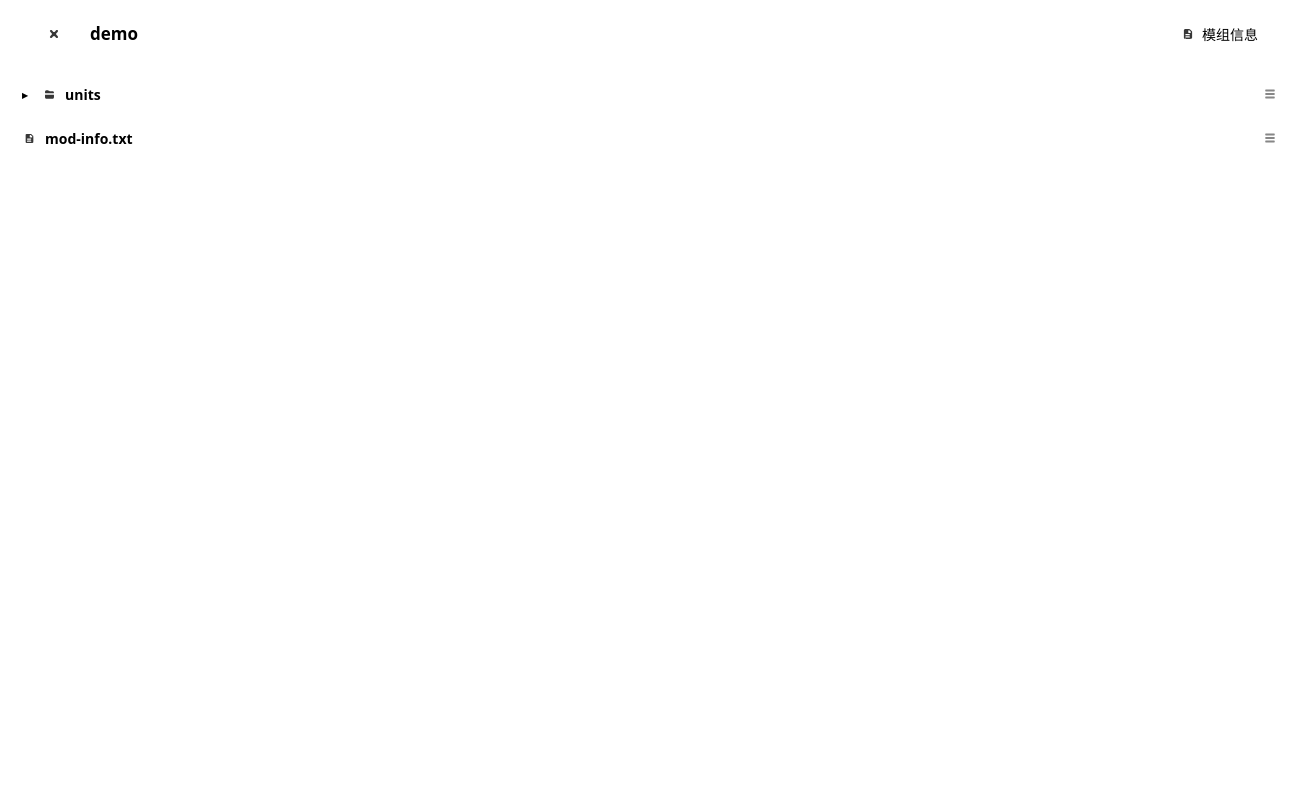
Test case: 编辑器页：保存失败与冲突 › 保存失败时留在编辑器并给出错误，内容不丢
Click the text "units".
click(83, 94)  # box [65,84,101,104]
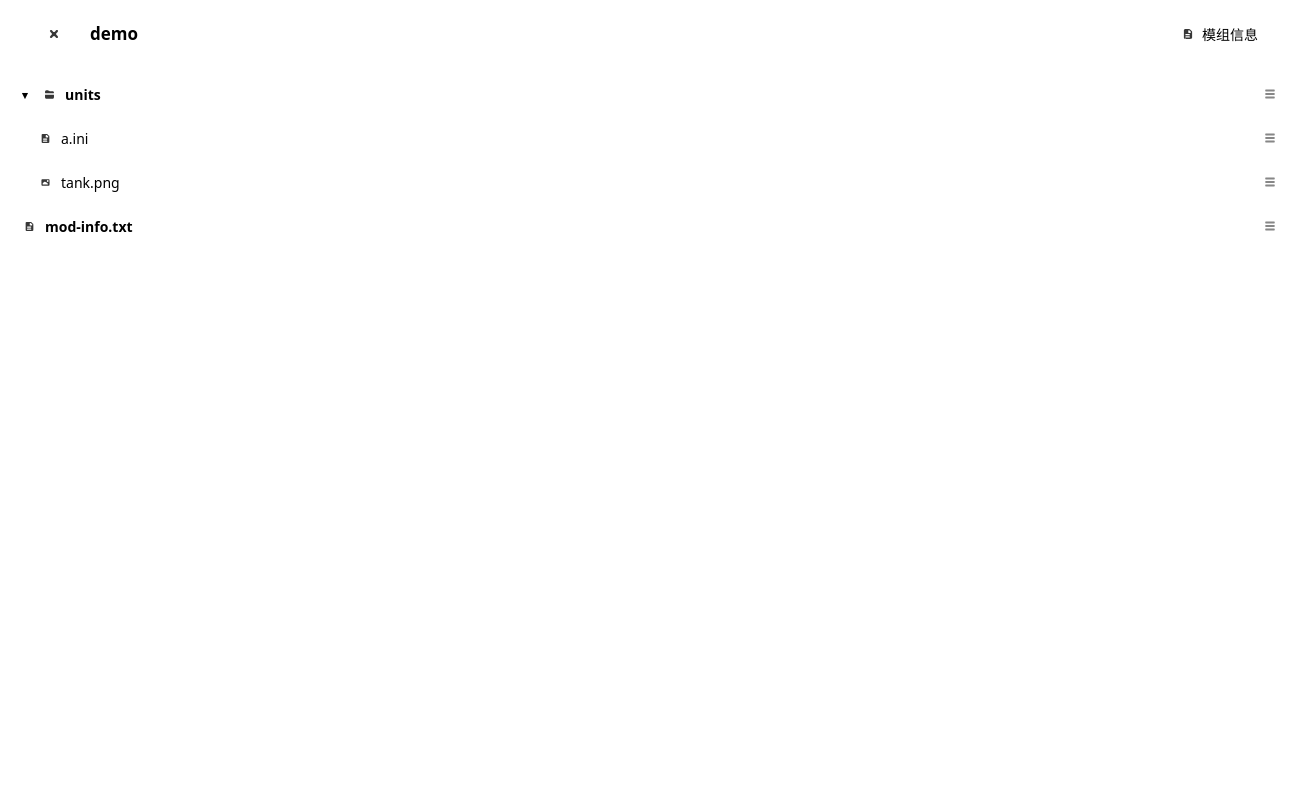
Click the button "a.ini".
click(46, 138)  # box [12,118,1248,158]
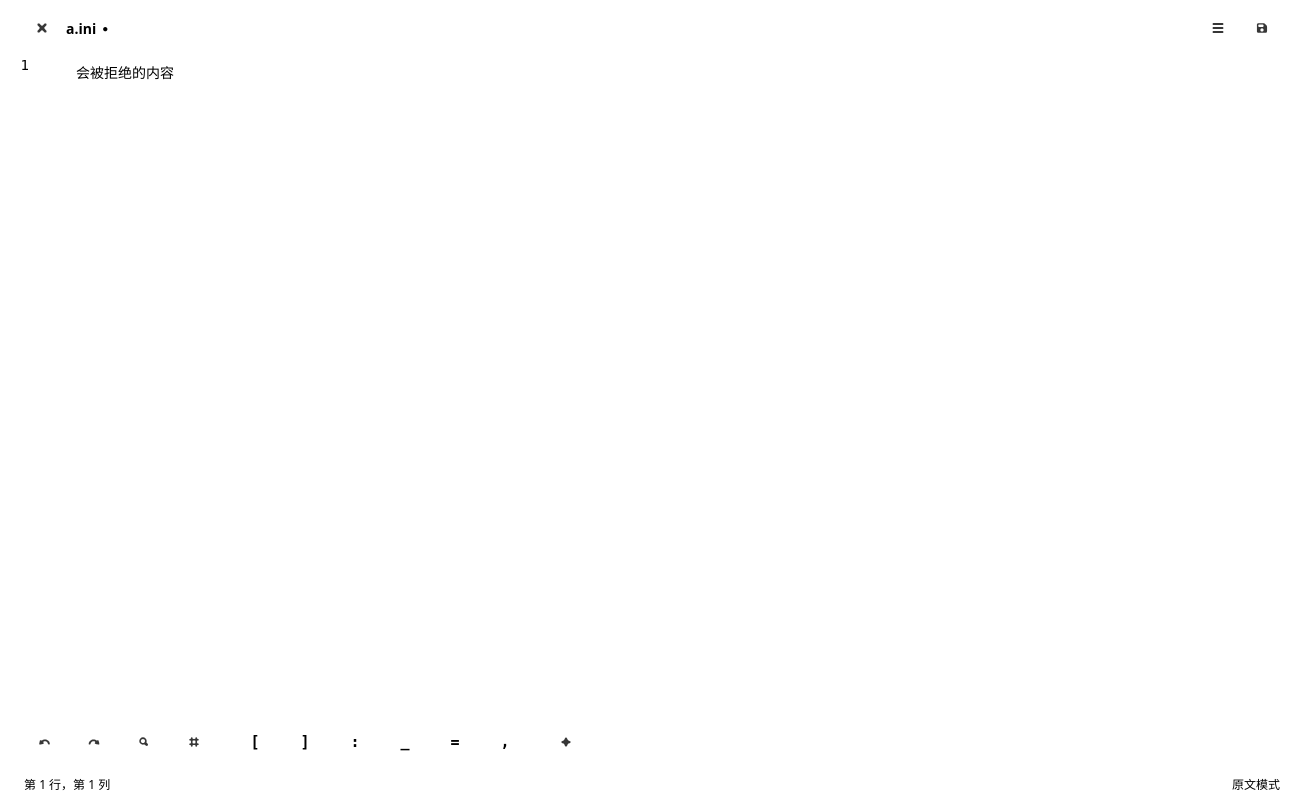
Click the button named "保存".
click(1262, 28)  # box [1242,8,1282,48]
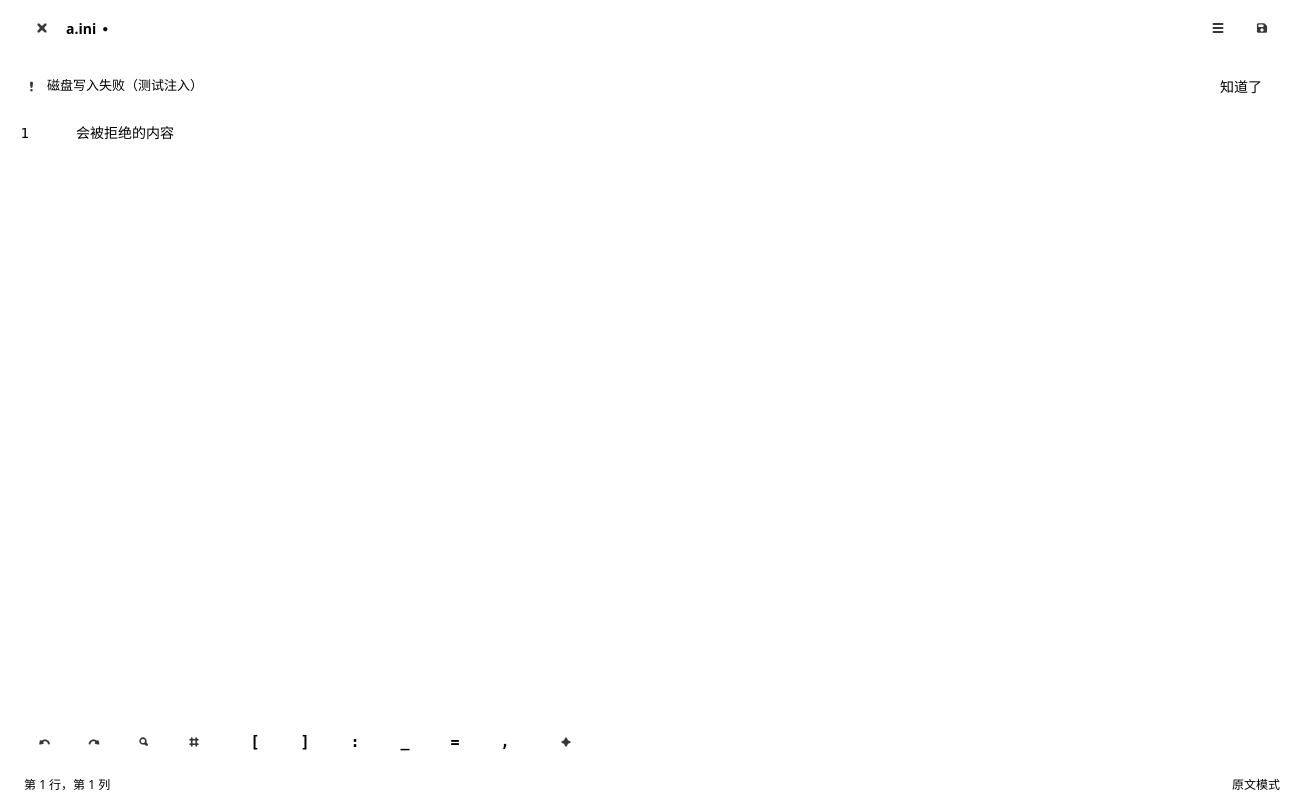
Result: the text box labelled "会被拒绝的内容" is shown at [76,125,174,141]
Result: the text "磁盘写入失败（测试注入）" is shown at [47,76,203,94]
